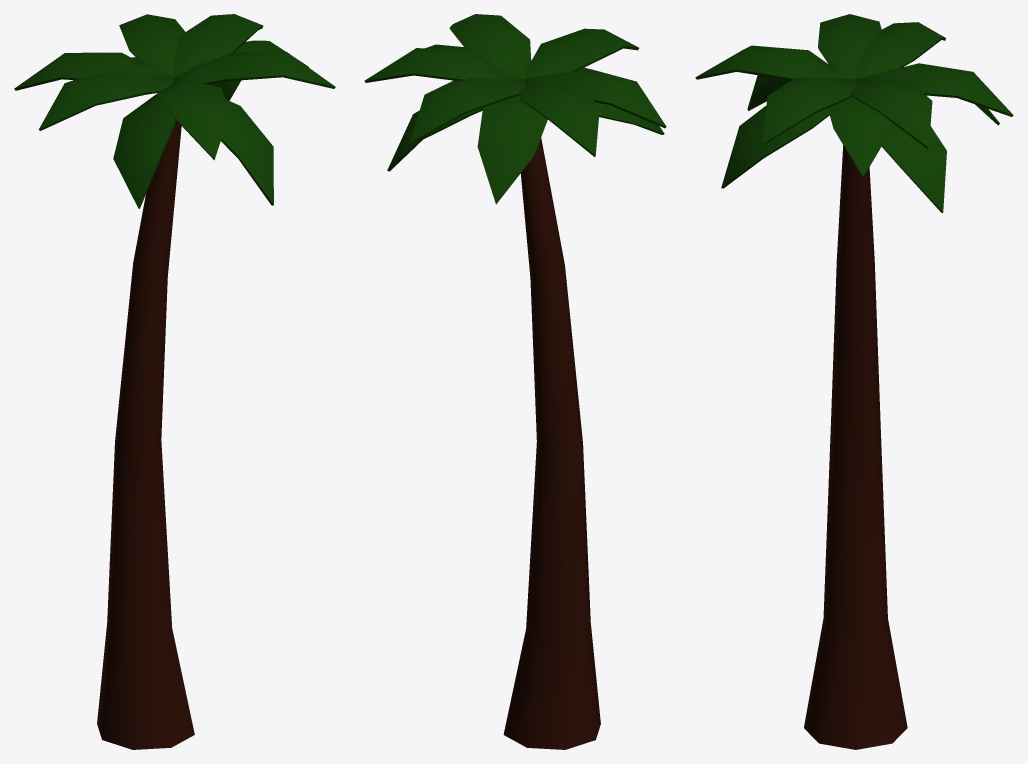
The model's file is Palmier01.fbx.
The picture shows the model from 3 angles, left to right: view 1: azimuth 30°, elevation 25°; view 2: azimuth 150°, elevation 25°; view 3: azimuth 270°, elevation 25°; orthographic projection. The views are drawn at different scales.
Visible parts, largest first — view 1: Object001; view 2: Object001; view 3: Object001.
Part boxes in pixels (bbox=[...]): Object001: bbox=[14, 14, 335, 749]; Object001: bbox=[364, 14, 666, 749]; Object001: bbox=[695, 14, 1013, 749].
Size of the model in its own units: 181 by 417 by 175.
